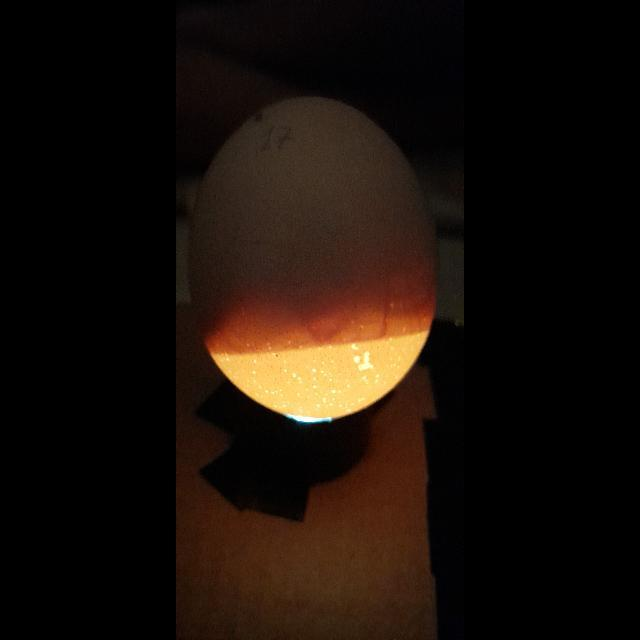Fertile: (186, 86, 446, 424)
